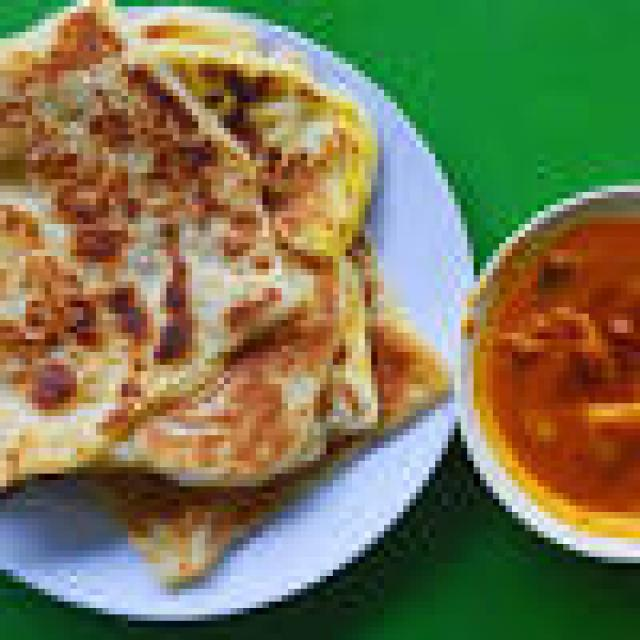Paratha: (0, 0, 449, 594)
